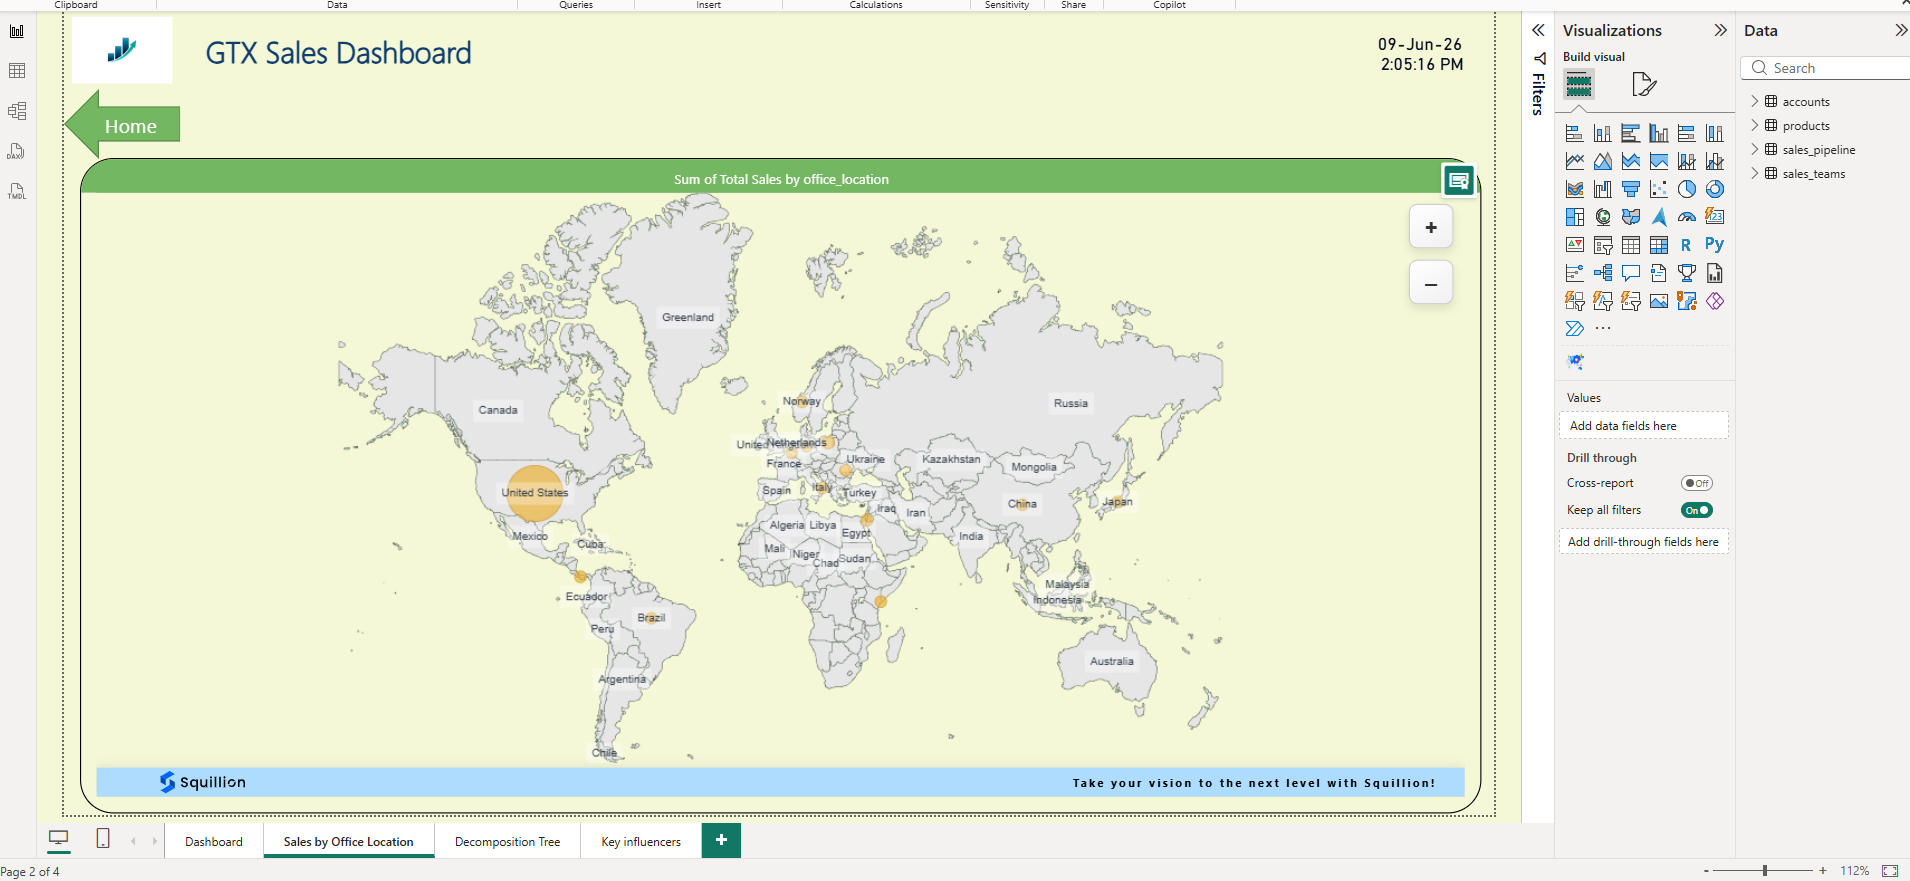

Layout of this report page (visuals, bound fields, positions):
{"tool":"powerbi","page":{"name":"Sales by Office Location","canvas":[1280,720],"ordinal":1},"visuals":[{"type":"MapBySquillion","fields":{"category":["accounts.office_location"],"bubble":["Sum(sales_pipeline.Total Sales)"]},"box":[14.4,132.1,1254.8,587.2],"z":0},{"type":"image","box":[0,0,103.7,70],"z":1000},{"type":"textbox","box":[103.7,12.4,284.6,49.7],"z":2000},{"type":"card","fields":{"Values":["accounts.DateTime"]},"box":[1152.3,0,127.7,78],"z":3000},{"type":"shape","box":[0,69.6,104.3,62.6],"z":4000}]}

Visuals, with their boxes on the page's 1280x720 design canvas (x1, y1, x2, y2). These are canvas units, not pixel positions in the 1910x881 screenshot, which may show the page scaled, cropped or inside an application window:
MapBySquillion - accounts.office_location x Sum(sales_pipeline.Total Sales): (x1=14, y1=132, x2=1269, y2=719)
image: (x1=0, y1=0, x2=104, y2=70)
textbox: (x1=104, y1=12, x2=388, y2=62)
card - accounts.DateTime: (x1=1152, y1=0, x2=1280, y2=78)
shape: (x1=0, y1=70, x2=104, y2=132)
